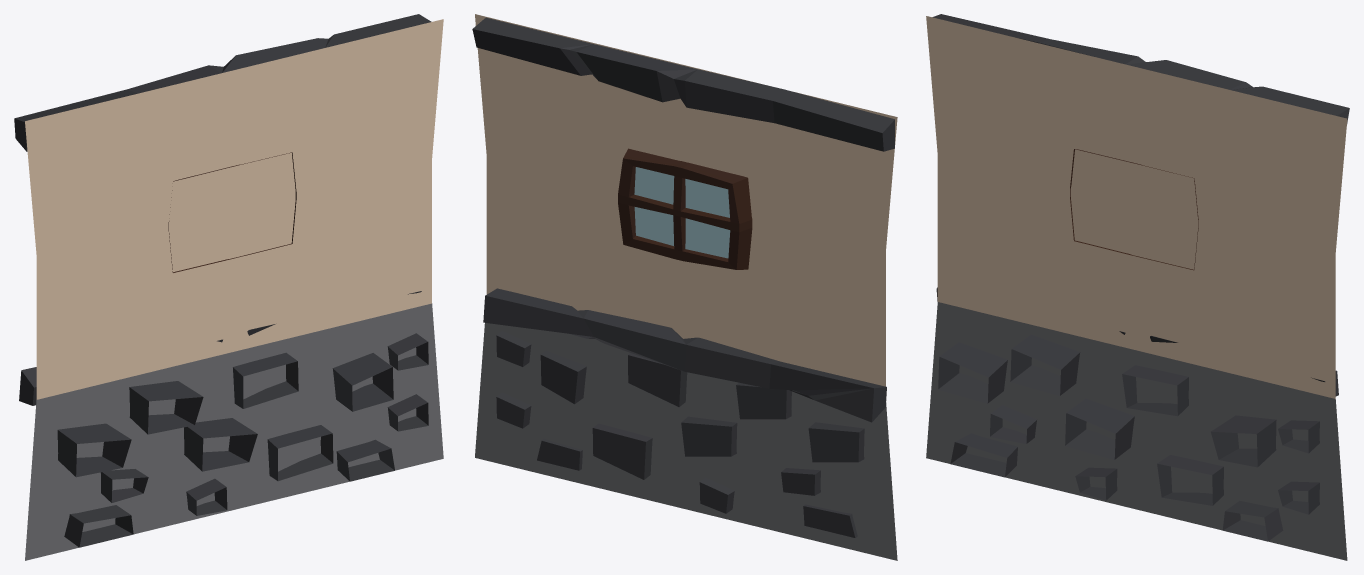
Rendered from SM_L_G_Home_side_2.fbx.
The picture shows the model from 3 angles, left to right: view 1: azimuth 30°, elevation 25°; view 2: azimuth 150°, elevation 25°; view 3: azimuth 330°, elevation 25°; orthographic projection.
Parts seen in each view (by area): view 1: SM_L_G_Home_Side_2; view 2: SM_L_G_Home_Side_2; view 3: SM_L_G_Home_Side_2.
Boxes of the visible parts, x1,y1,x2,y2 form: SM_L_G_Home_Side_2: [14, 14, 443, 560]; SM_L_G_Home_Side_2: [472, 14, 897, 560]; SM_L_G_Home_Side_2: [926, 14, 1349, 560].
Bounding box in the file's own units: 3 × 3.01 × 0.4699.
